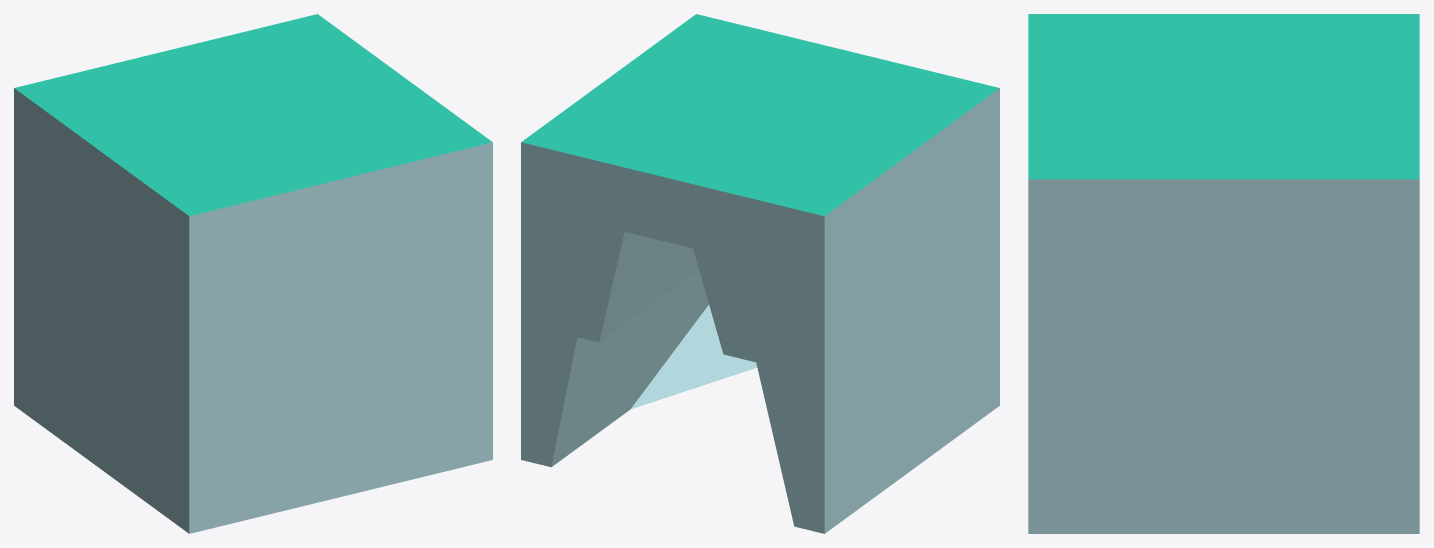
File: cliff_blockCave_stone.glb
The picture shows the model from 3 angles, left to right: view 1: azimuth 30°, elevation 25°; view 2: azimuth 150°, elevation 25°; view 3: azimuth 270°, elevation 25°; orthographic projection. The views are drawn at different scales.
Parts seen in each view (by area): view 1: cliff_blockCave_stone; view 2: cliff_blockCave_stone; view 3: cliff_blockCave_stone.
Boxes of the visible parts, x1=… form: cliff_blockCave_stone: x1=14, y1=14, x2=492, y2=533; cliff_blockCave_stone: x1=521, y1=14, x2=999, y2=533; cliff_blockCave_stone: x1=1028, y1=14, x2=1419, y2=533.
Bounding box in the file's own units: 1 × 1 × 1.
